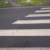zebra: (1, 8, 50, 36)
